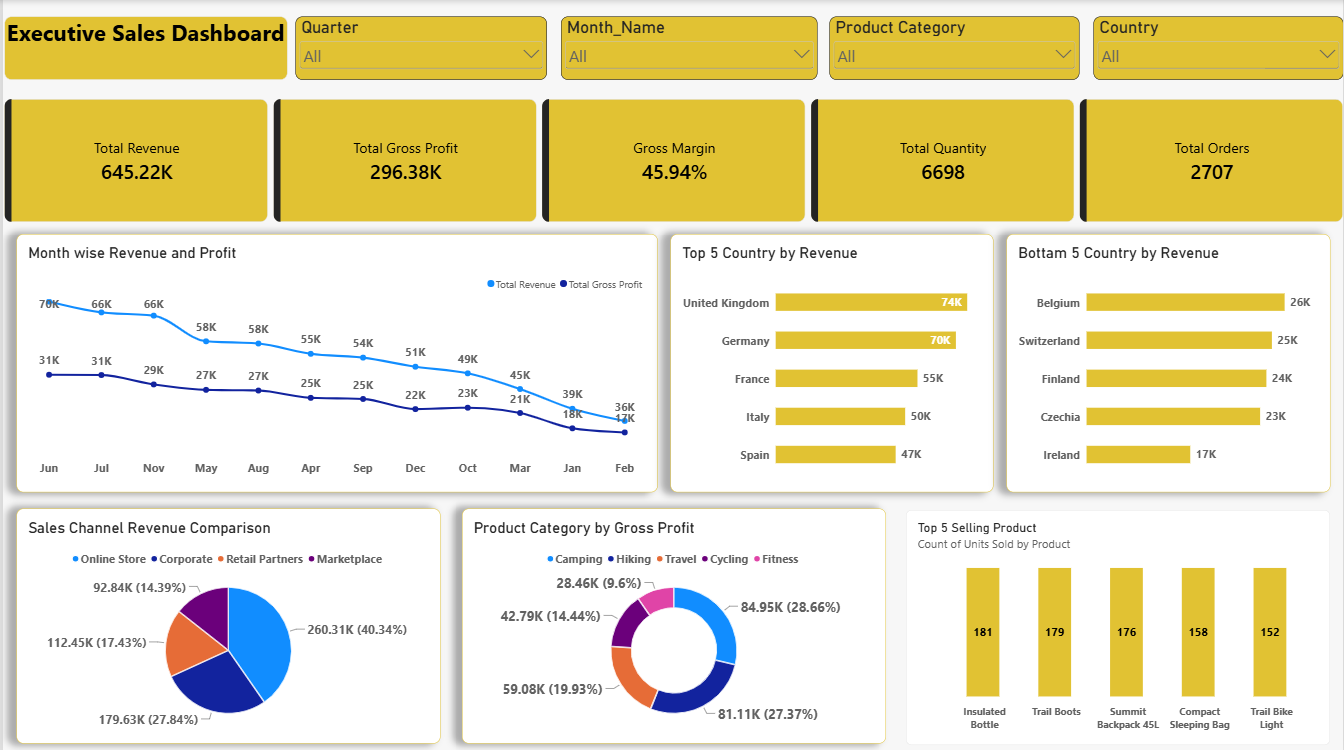

Layout of this report page (visuals, bound fields, positions):
{"tool":"powerbi","page":{"name":"Page 1","canvas":[1920,1080],"ordinal":0},"visuals":[{"type":"slicer","fields":{"Values":["Date_Table.Quarter"]},"box":[419.9,23.9,360.3,90.7],"z":0,"group":"g1"},{"type":"cardVisual","fields":{"Data":["All_Measures.Total Revenue","All_Measures.Total Gross Profit","All_Measures.Gross Margin","All_Measures.Total Quantity","All_Measures.Total Orders"]},"box":[2.4,140.8,1918.3,176.6],"z":0},{"type":"textbox","box":[2.4,23.9,405.6,90.7],"z":1000},{"type":"slicer","fields":{"Values":["Date_Table.Month_Name"]},"box":[799.3,23.9,367.4,90.7],"z":1000,"group":"g1"},{"type":"group","id":"g1","title":"Group 1","box":[419.9,23.9,1500.1,90.7],"z":2000},{"type":"slicer","fields":{"Values":["SalesData.Product Category"]},"box":[1185.8,23.9,357.9,90.7],"z":2000,"group":"g1"},{"type":"slicer","fields":{"Values":["SalesData.Country"]},"box":[1562.1,23.9,357.9,90.7],"z":3000,"group":"g1"},{"type":"lineChart","title":"Month wise Revenue and Profit","fields":{"Category":["Date_Table.Month_Name"],"Y":["All_Measures.Total Revenue"],"Y2":["All_Measures.Total Gross Profit"]},"box":[19.1,334.4,918.6,369.8],"z":3000},{"type":"clusteredBarChart","title":"Top 5 Country by Revenue","fields":{"Category":["SalesData.Country"],"Y":["All_Measures.Total Revenue"]},"box":[956.8,334.4,462.9,369.8],"z":4000},{"type":"clusteredBarChart","title":"Bottam 5 Country by Revenue","fields":{"Category":["SalesData.Country"],"Y":["All_Measures.Total Revenue"]},"box":[1437.9,334.4,463.7,369.8],"z":5000},{"type":"pieChart","title":"Sales Channel Revenue Comparison","fields":{"Category":["SalesData.Sales Channel"],"Y":["All_Measures.Total Revenue"]},"box":[19.1,727.7,607.7,336.4],"z":6000},{"type":"pieChart","title":"Product Category by Gross Profit","fields":{"Category":["SalesData.Product Category"],"Y":["All_Measures.Total Gross Profit"]},"box":[656.5,728.9,607.7,336.4],"z":7000},{"type":"hundredPercentStackedColumnChart","title":"Top 5 Selling Product","fields":{"Category":["SalesData.Product"],"Y":["CountNonNull(SalesData.Units Sold)"]},"box":[1293.9,730.1,607.7,336.4],"z":8000}]}

Visuals, with their boxes in screenshot pixels (x1, y1, x2, y2), scaled from the page's 1920x1080 canvas onto the 1344x750 screenshot:
slicer - Date_Table.Quarter: crop(294, 17, 546, 80)
cardVisual - All_Measures.Total Revenue x All_Measures.Total Gross Profit: crop(2, 98, 1343, 220)
textbox: crop(2, 17, 286, 80)
slicer - Date_Table.Month_Name: crop(560, 17, 817, 80)
"Group 1" group: crop(294, 17, 1343, 80)
slicer - SalesData.Product Category: crop(830, 17, 1081, 80)
slicer - SalesData.Country: crop(1093, 17, 1343, 80)
"Month wise Revenue and Profit" lineChart: crop(13, 232, 656, 489)
"Top 5 Country by Revenue" clusteredBarChart: crop(670, 232, 994, 489)
"Bottam 5 Country by Revenue" clusteredBarChart: crop(1007, 232, 1331, 489)
"Sales Channel Revenue Comparison" pieChart: crop(13, 505, 439, 739)
"Product Category by Gross Profit" pieChart: crop(460, 506, 885, 740)
"Top 5 Selling Product" hundredPercentStackedColumnChart: crop(906, 507, 1331, 741)
